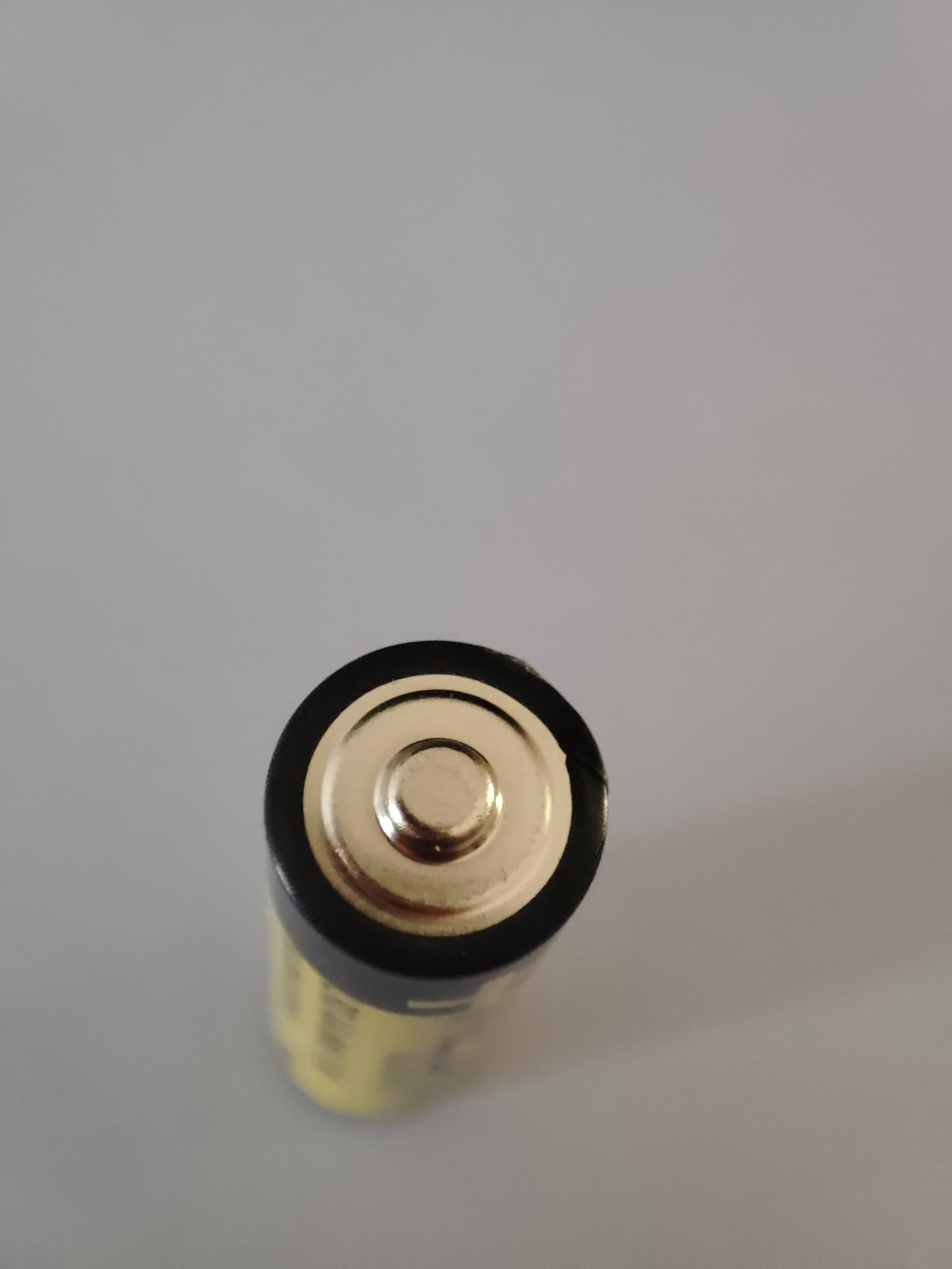AA: (261, 636, 610, 1120)
